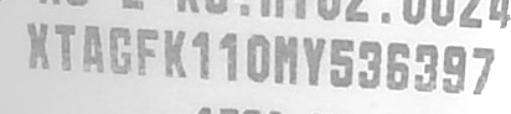letter: (271, 30, 299, 86), (441, 41, 470, 93), (133, 25, 161, 78), (469, 44, 498, 95), (106, 22, 133, 76), (245, 29, 272, 83), (163, 27, 191, 79), (328, 34, 355, 87), (300, 33, 326, 87), (384, 39, 411, 91), (412, 40, 439, 92), (356, 37, 383, 88), (24, 21, 51, 70), (51, 22, 78, 71), (189, 28, 213, 82), (81, 21, 105, 74), (217, 28, 240, 82)
